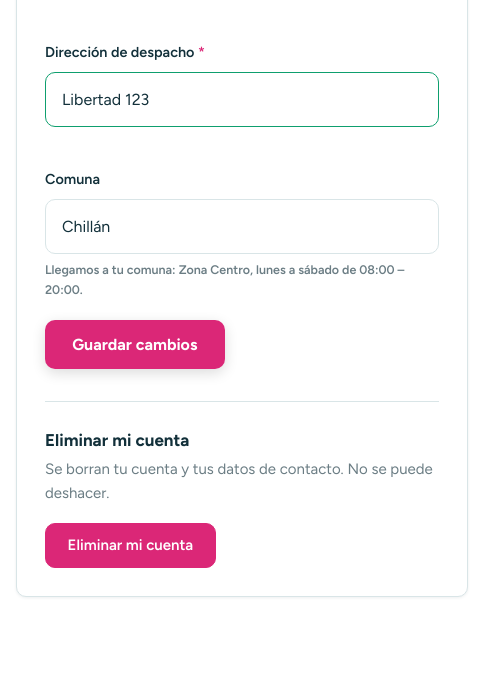
it: Perfil: página conectada a ms-usuarios › muestra el mensaje del backend si rechaza los datos
(page scrolled)
What coordinates should you click on to do the following:
click the button "Guardar cambios"
I would click on:
 (135, 345)
Its box is [45,320,225,369].
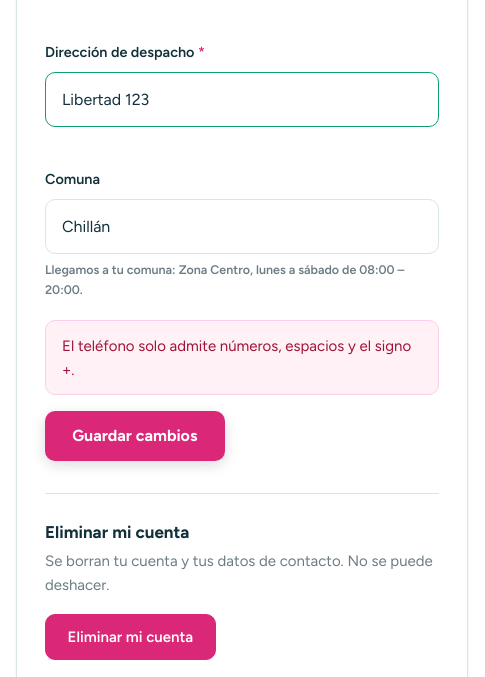
Result: the message "El teléfono solo admite números, espacios y el signo +." is shown at [45,320,439,395]
